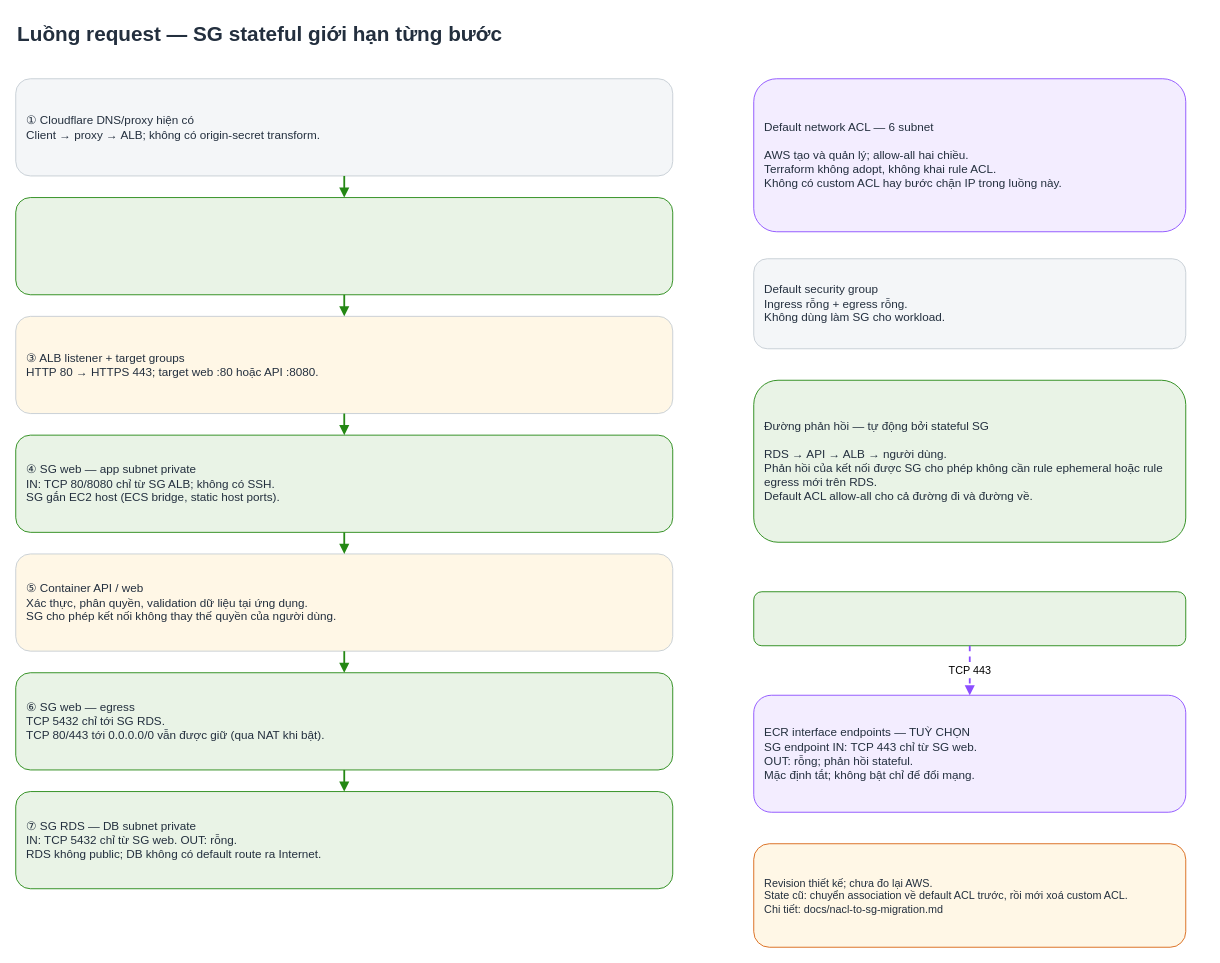
Some shapes in this 1220 by 963 pixel diagram are drawn without their labels. Here are the shapes that lost their labels. From the top down, the centre of each, then its label:
At (x=344, y=246): "② SG ALB IN: TCP 80/443 từ Internet. Forward khi Host hợp lệ; Host lạ trả 403.".
At (x=969, y=618): "SG web (egress 443 đang có)".
